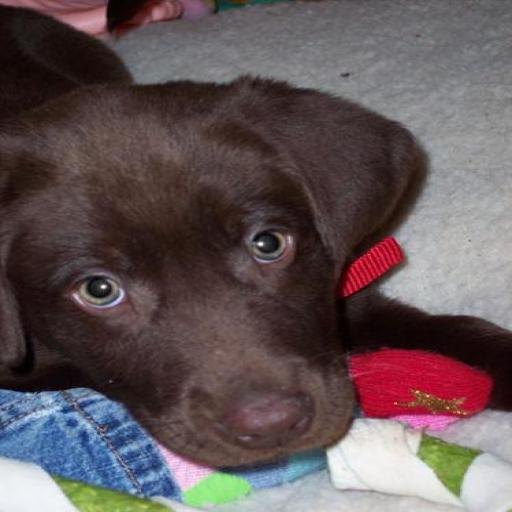dog_face: (4, 86, 404, 450)
